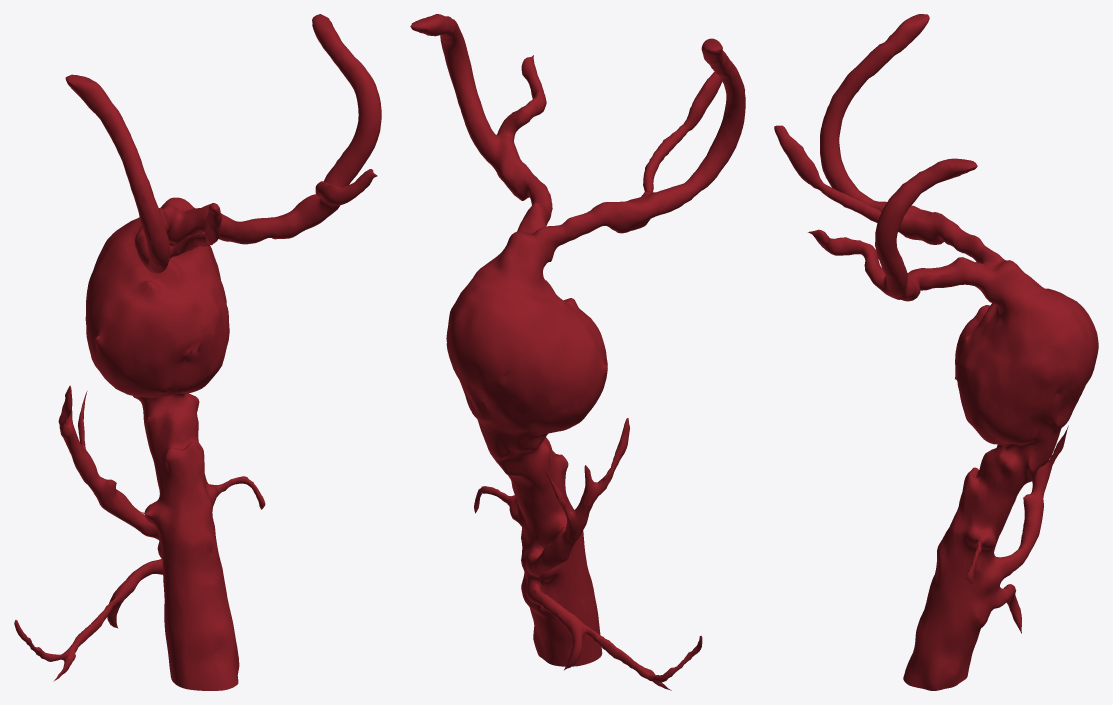
Rendered from aneurysm.glb.
3 views of the same model, side by side, from view 1: azimuth 30°, elevation 25°; view 2: azimuth 150°, elevation 25°; view 3: azimuth 270°, elevation 25° (orthographic). The views are drawn at different scales.
Visible parts, largest first — view 1: Mesh_0; view 2: Mesh_0; view 3: Mesh_0.
Part boxes in pixels (x1,y1,x2,y2): Mesh_0: (14, 14, 381, 690); Mesh_0: (410, 14, 745, 690); Mesh_0: (774, 14, 1098, 690).
Bounding box in the file's own units: 0.1795 × 0.3523 × 0.1731.
